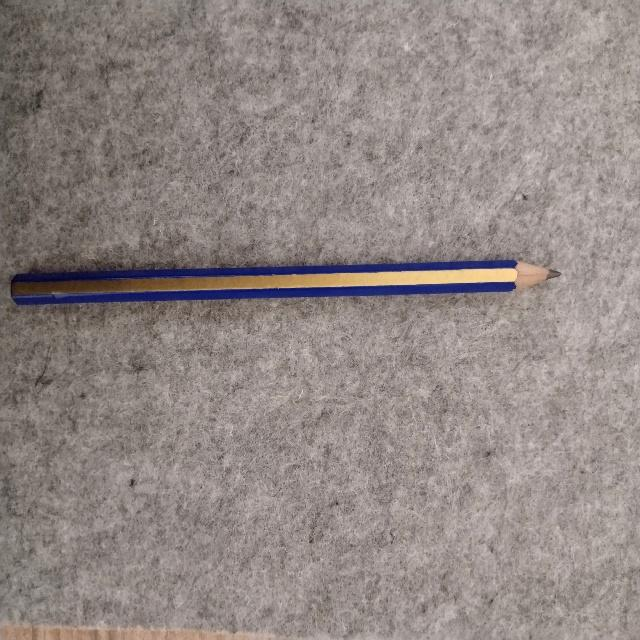pencil: (11, 260, 558, 304)
